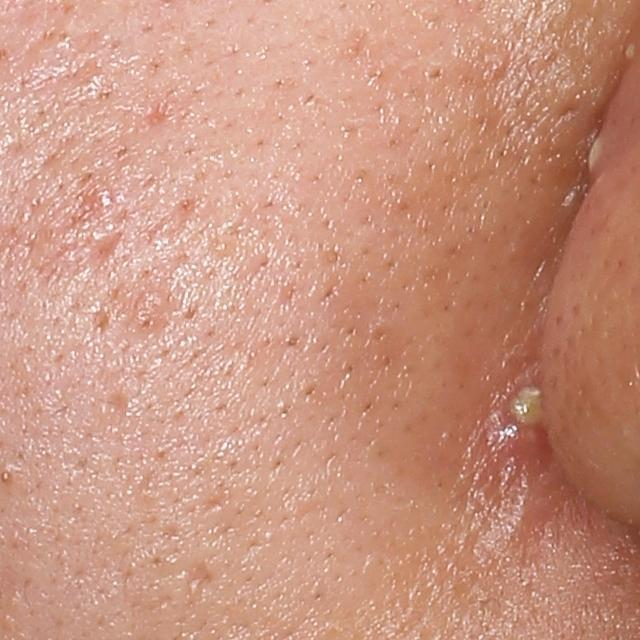atrophic_scar: (100, 388, 133, 431), (185, 562, 217, 606), (89, 302, 112, 340)
comedo: (420, 60, 445, 85)
pustule: (502, 380, 550, 437)
